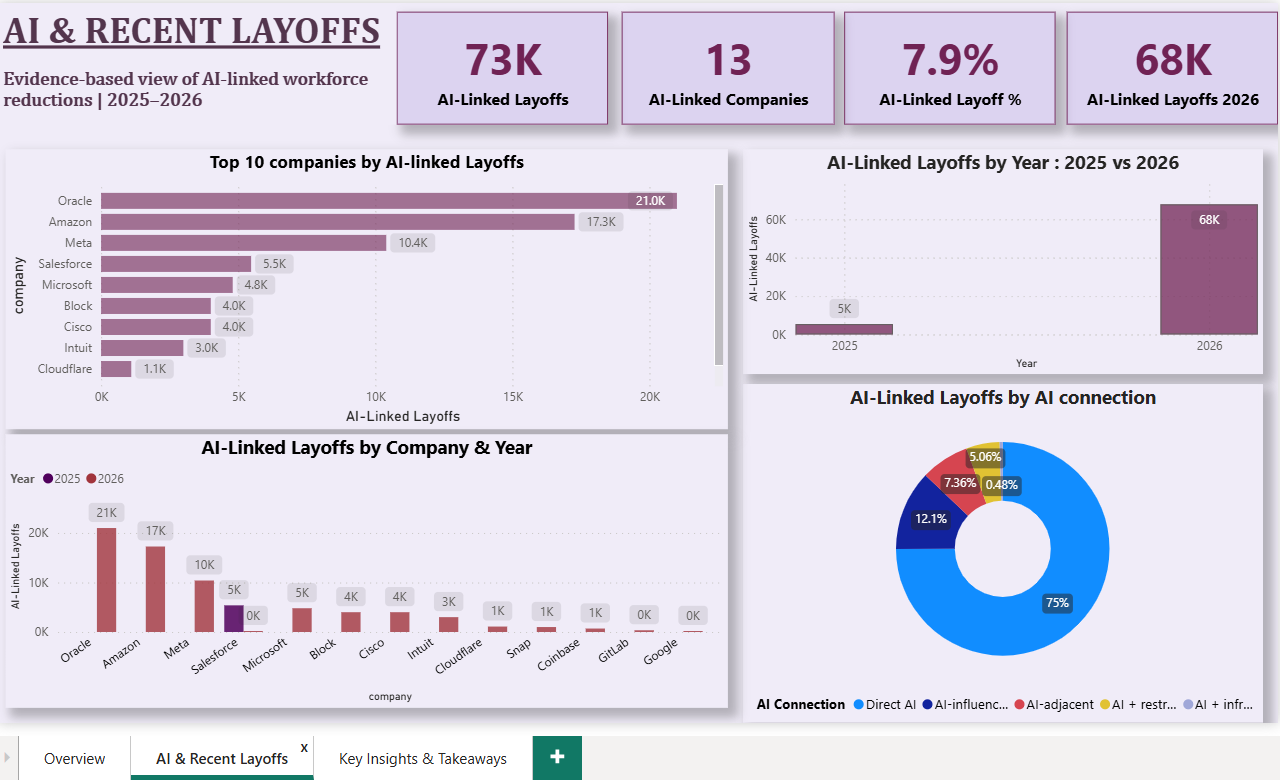

The page's visual inventory and layout, read from the dashboard file:
{"tool":"powerbi","page":{"name":"AI & Recent Layoffs","canvas":[1280,720],"ordinal":1},"visuals":[{"type":"card","fields":{"Values":["Power Bi Layoff.AI-Linked Layoffs"]},"box":[398.8,8.8,211.2,112.5],"z":0},{"type":"card","fields":{"Values":["Power Bi Layoff.AI-Linked Companies"]},"box":[623.8,8.8,212.5,112.5],"z":1000},{"type":"card","fields":{"Values":["Power Bi Layoff.AI-Linked Layoff %"]},"box":[846.2,8.8,211.2,112.5],"z":2000},{"type":"card","fields":{"Values":["Power Bi Layoff.AI-Linked Layoffs 2026"]},"box":[1068.8,8.8,211.2,112.5],"z":3000},{"type":"clusteredColumnChart","title":"AI-Linked Layoffs by Year : 2025 vs 2026","fields":{"Category":["Calendar.Year"],"Y":["Power Bi Layoff.AI-Linked Layoffs"]},"box":[745,146.2,520,225],"z":4000},{"type":"donutChart","title":"AI-Linked Layoffs by AI connection","fields":{"Category":["ai_layoff_evidence_powerbi.ai_connection"],"Y":["Power Bi Layoff.AI-Linked Layoffs"]},"box":[745,381.2,520,338.8],"z":5000},{"type":"clusteredBarChart","title":"Top 10 companies by AI-linked Layoffs","fields":{"Category":["Power Bi Layoff.company"],"Y":["Power Bi Layoff.AI-Linked Layoffs"]},"box":[7.5,146.2,722.5,280],"z":6000},{"type":"clusteredColumnChart","title":"AI-Linked Layoffs by Company & Year","fields":{"Category":["Power Bi Layoff.company"],"Y":["Power Bi Layoff.AI-Linked Layoffs"],"Series":["Calendar.Year"]},"box":[7.5,431.2,722.5,273.8],"z":7000},{"type":"textbox","box":[0,0,398.8,121.2],"z":8000}]}

Visuals, with their boxes on the page's 1280x720 design canvas (x1, y1, x2, y2). These are canvas units, not pixel positions in the 1280x780 screenshot, which may show the page scaled, cropped or inside an application window:
card - Power Bi Layoff.AI-Linked Layoffs: 399/9/610/121
card - Power Bi Layoff.AI-Linked Companies: 624/9/836/121
card - Power Bi Layoff.AI-Linked Layoff %: 846/9/1057/121
card - Power Bi Layoff.AI-Linked Layoffs 2026: 1069/9/1280/121
"AI-Linked Layoffs by Year : 2025 vs 2026" clusteredColumnChart: 745/146/1265/371
"AI-Linked Layoffs by AI connection" donutChart: 745/381/1265/720
"Top 10 companies by AI-linked Layoffs" clusteredBarChart: 8/146/730/426
"AI-Linked Layoffs by Company & Year" clusteredColumnChart: 8/431/730/705
textbox: 0/0/399/121
